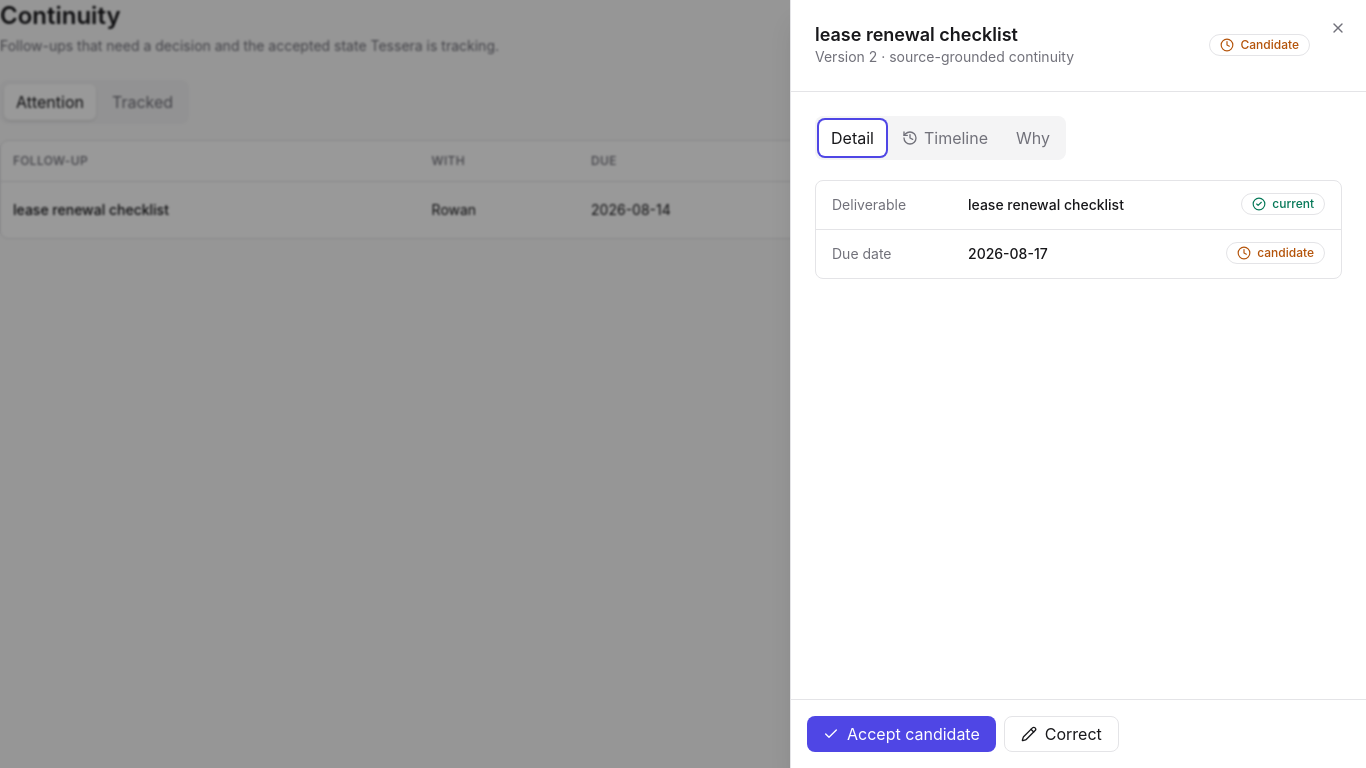
Test: FollowUpWorkspace › shows timeline and Why truncation without hiding the limits
What coordinates should you click on to do the following:
click the tab "Timeline"
I would click on:
 (945, 138)
Its box is [890, 120, 1000, 156].
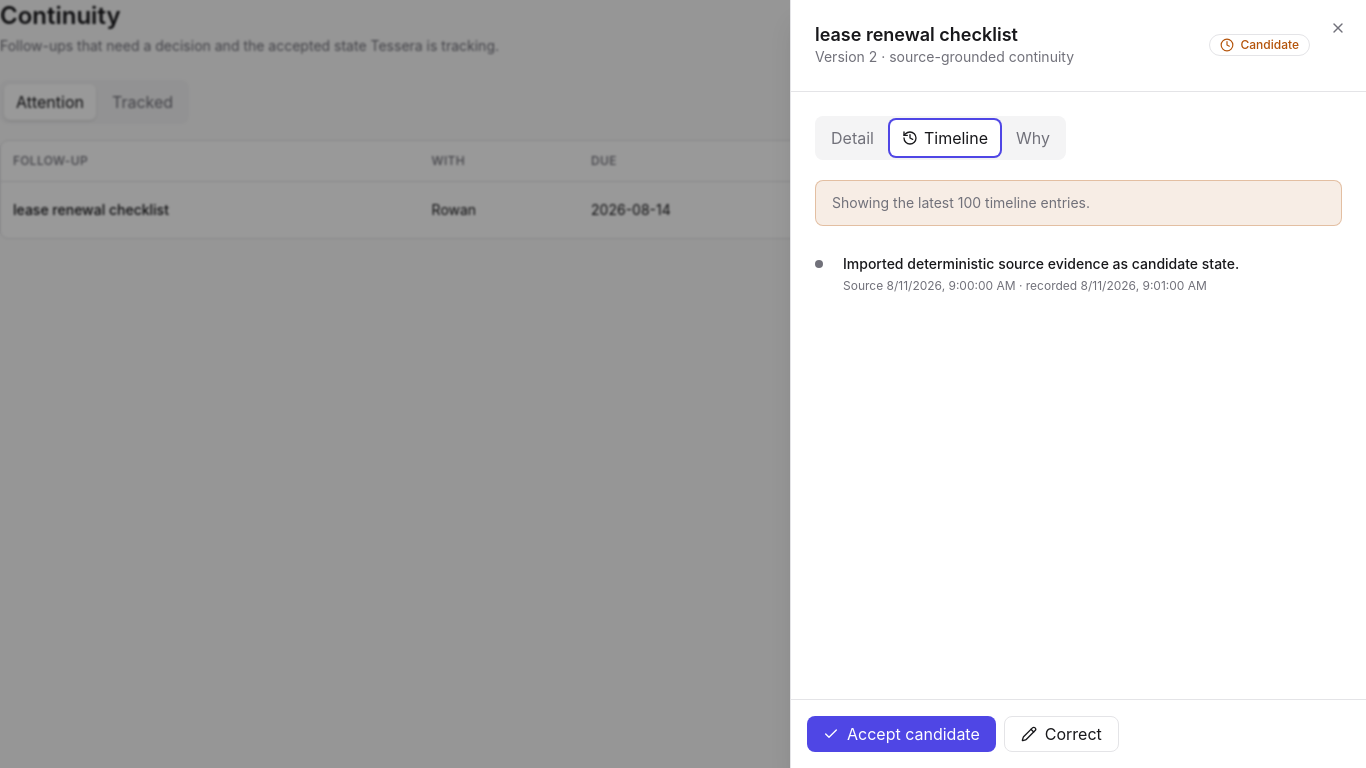
Expected: the text "Showing the latest 100 timeline entries." is shown, [832, 194, 1090, 210]
What coordinates should you click on to do the following:
click the tab "Why"
I would click on:
 (1033, 138)
Its box is [1004, 120, 1062, 156].
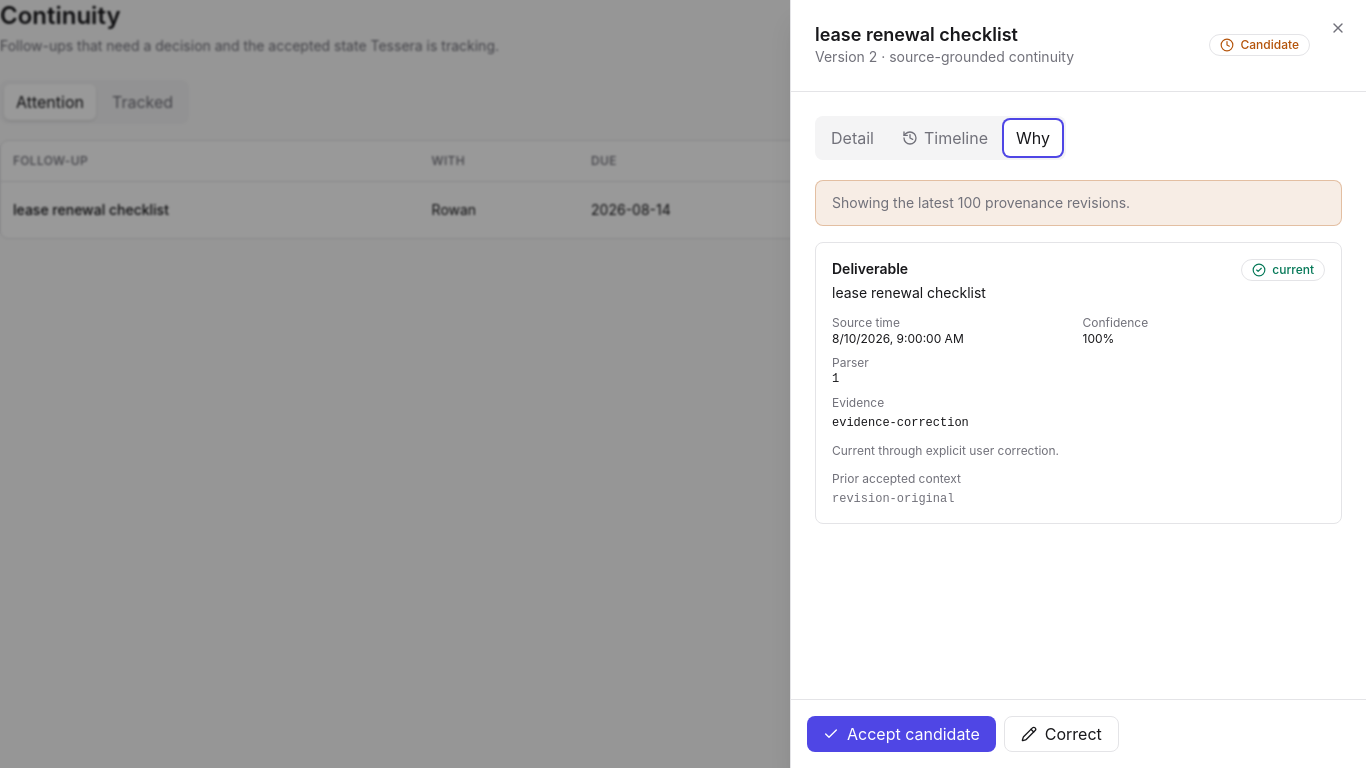
Expected: the text "Showing the latest 100 provenance revisions." is shown, [832, 194, 1130, 210]
